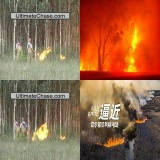fire: (126, 27, 138, 72), (32, 122, 48, 141), (95, 137, 125, 147), (39, 47, 51, 61), (80, 60, 91, 71), (134, 115, 148, 123), (106, 57, 111, 71), (60, 54, 65, 59), (60, 135, 65, 140), (139, 105, 141, 108)
